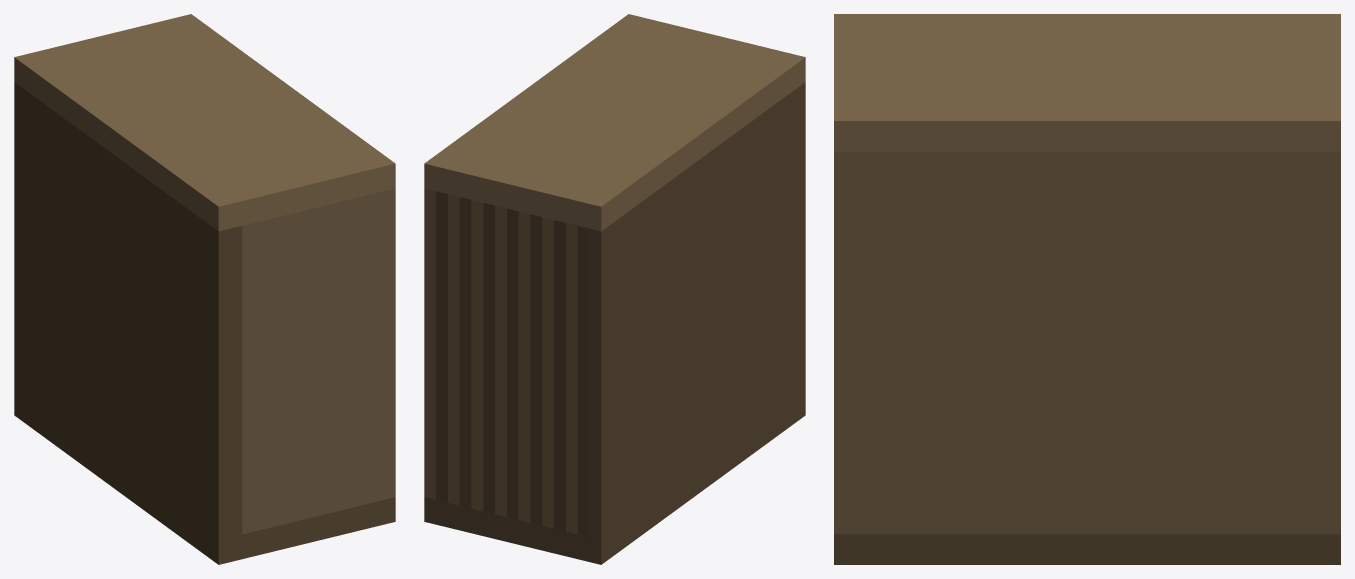
The model's file is estanteria_nogal_tallada_01.glb.
The picture shows the model from 3 angles, left to right: view 1: azimuth 30°, elevation 25°; view 2: azimuth 150°, elevation 25°; view 3: azimuth 270°, elevation 25°; orthographic projection. The views are drawn at different scales.
Visible parts, largest first — view 1: estanteria_nogal_tallada; view 2: estanteria_nogal_tallada; view 3: estanteria_nogal_tallada.
Part boxes in pixels (x1=…): estanteria_nogal_tallada: x1=14, y1=14, x2=395, y2=564; estanteria_nogal_tallada: x1=424, y1=14, x2=805, y2=564; estanteria_nogal_tallada: x1=834, y1=14, x2=1340, y2=564.
Size of the model in its own units: 1 by 1.93 by 2.
